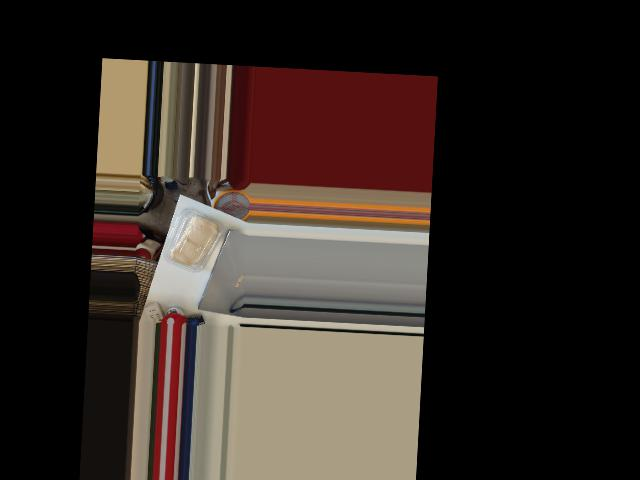cheese: (163, 202, 225, 275)
